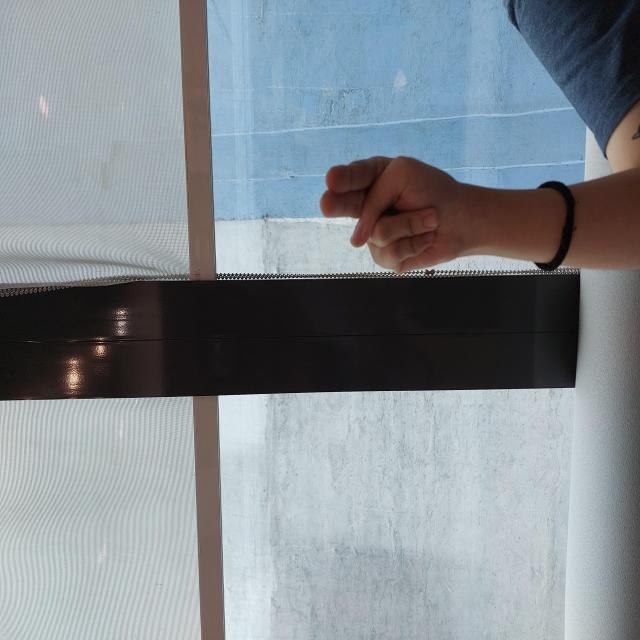N: (368, 320, 487, 460)
